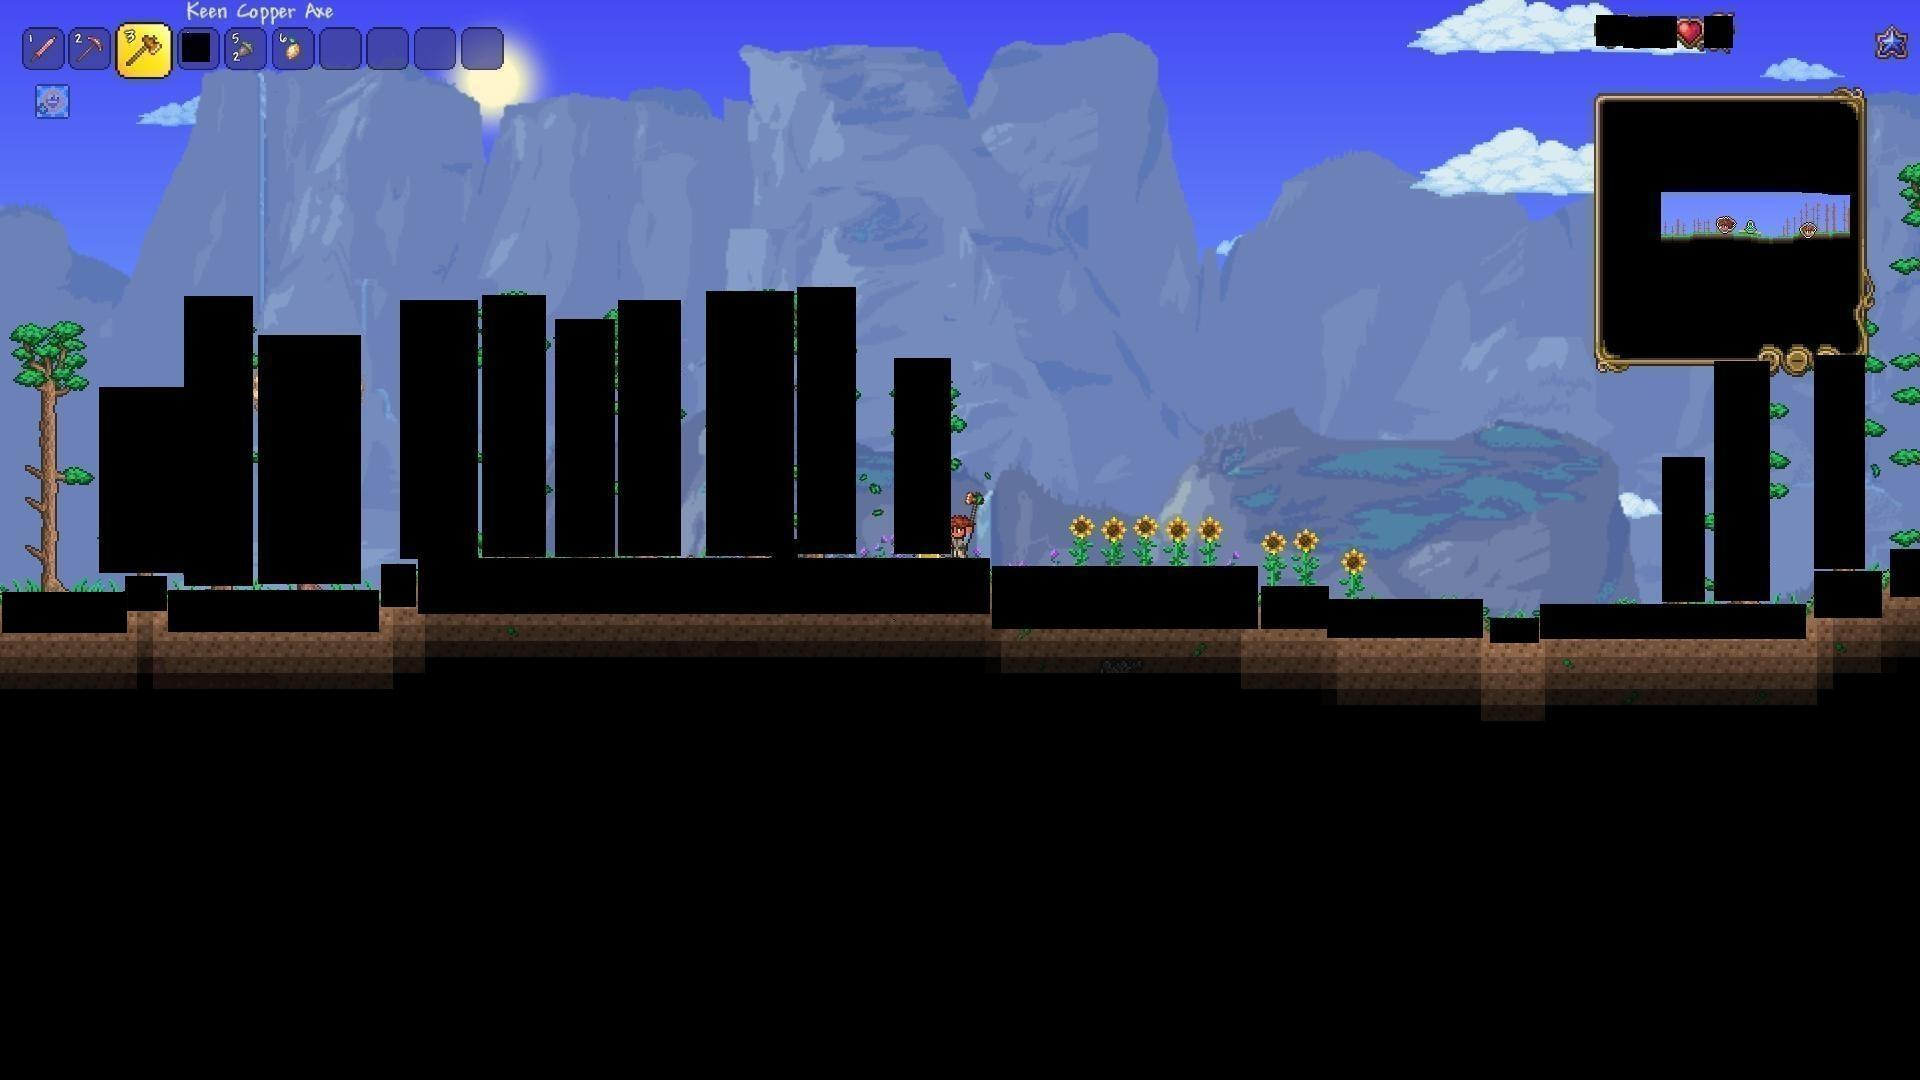heart: (1676, 17, 1705, 47)
tree: (9, 310, 91, 589)
